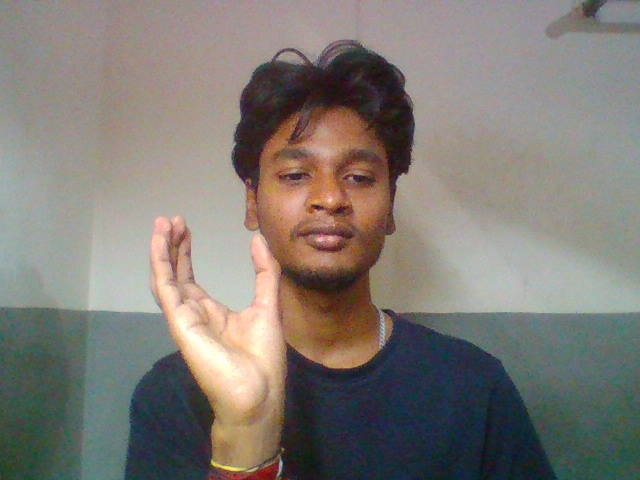U: (128, 215, 321, 460)
